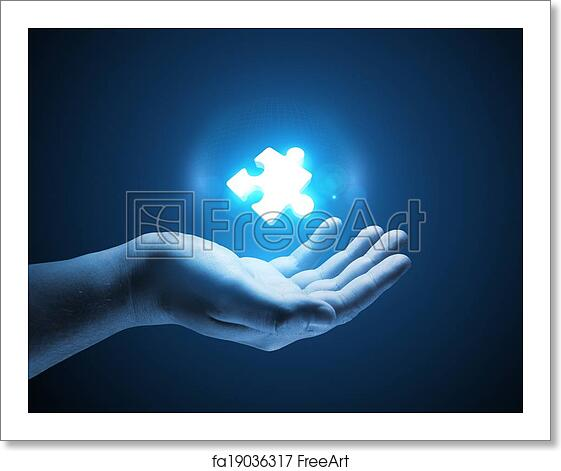puzzle piece: (214, 124, 322, 226)
